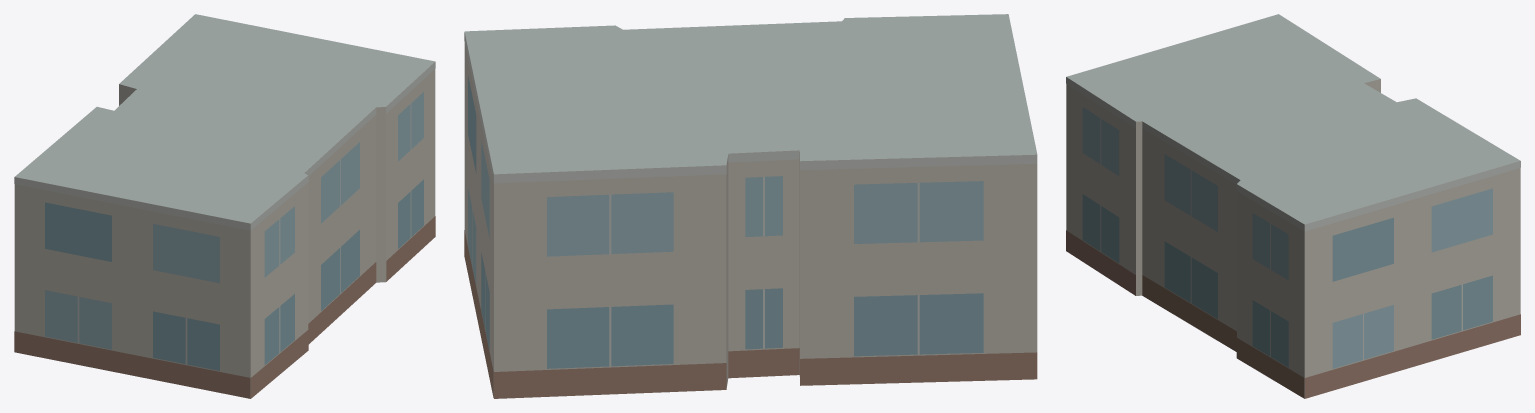
The model's file is survey-upis-32621833.glb.
3 renders of one model, left to right at view 1: azimuth 30°, elevation 25°; view 2: azimuth 150°, elevation 25°; view 3: azimuth 270°, elevation 25°, orthographic. The views are drawn at different scales.
Visible parts, largest first — view 1: survey-upis-32621833.tmp; view 2: survey-upis-32621833.tmp; view 3: survey-upis-32621833.tmp.
Boxes of the visible parts, x1,y1,x2,y2 form: survey-upis-32621833.tmp: (14, 14, 435, 398); survey-upis-32621833.tmp: (464, 14, 1037, 398); survey-upis-32621833.tmp: (1066, 14, 1520, 398).
Bounding box in the file's own units: 15.82 × 6.1 × 14.43.
